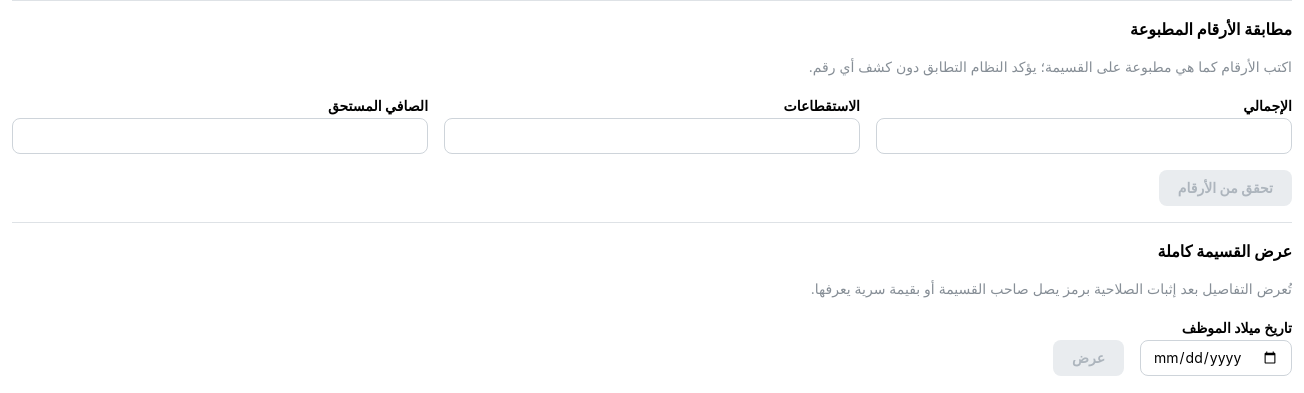
Test case: إجراءات التحقق العام من القسيمة › مطابقة الأرقام تعرض عدم التطابق دون كشف أرقام
Type "5000" into the field labelled "الإجمالي".
click(1084, 136); type("5000")  # box [876, 118, 1292, 154]
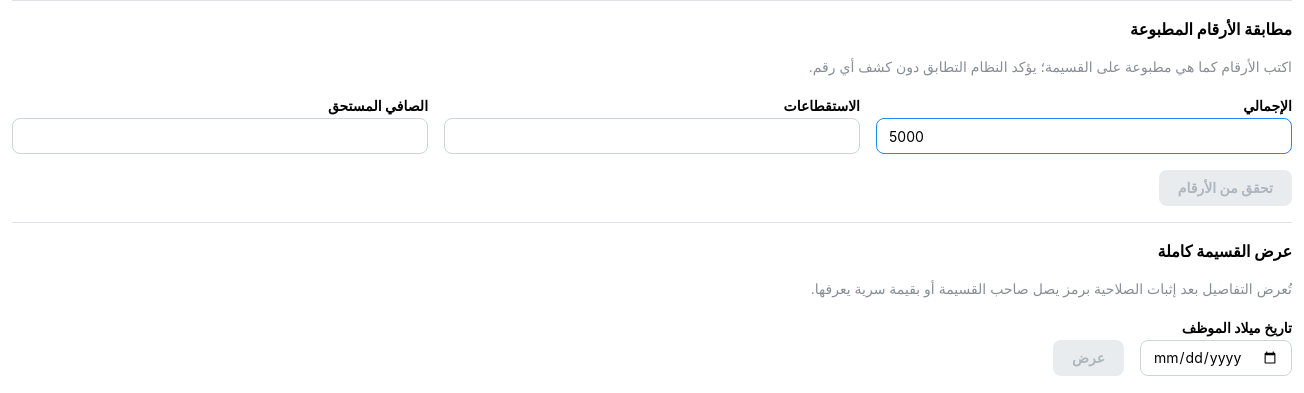
Type "0" into the field labelled "الاستقطاعات".
click(652, 136); type("0")  # box [444, 118, 860, 154]
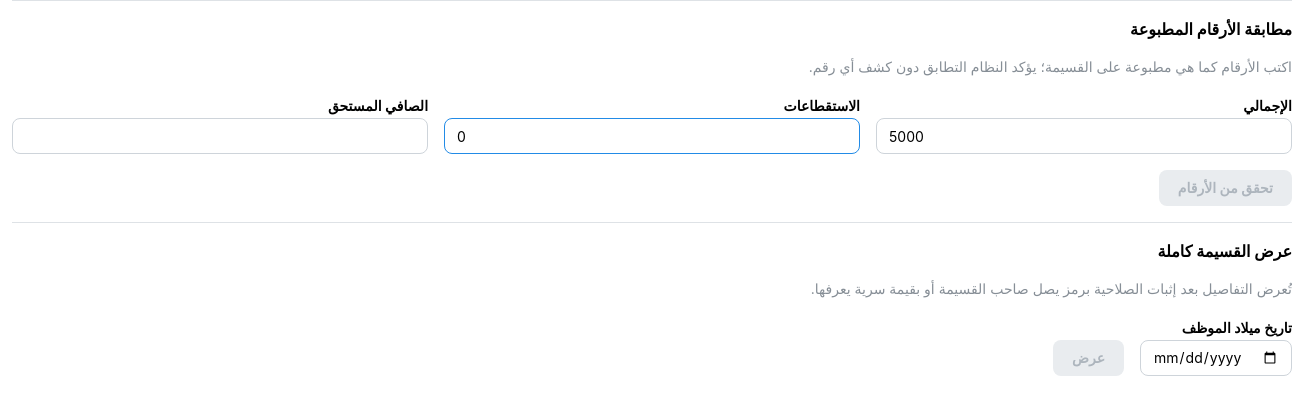
Type "5000" into the field labelled "الصافي المستحق".
click(220, 136); type("5000")  # box [12, 118, 428, 154]
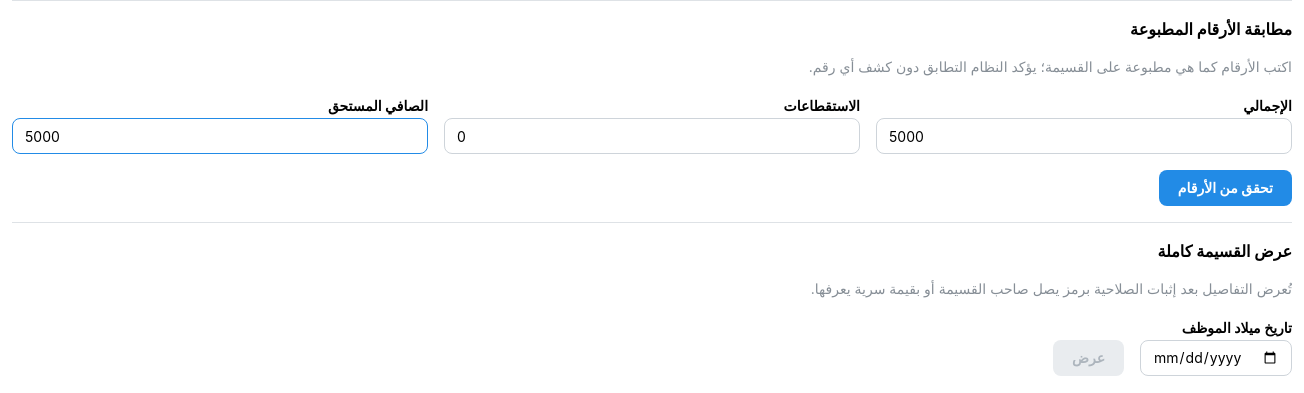
Click the button "تحقق من الأرقام".
click(1225, 188)  # box [1159, 170, 1292, 206]
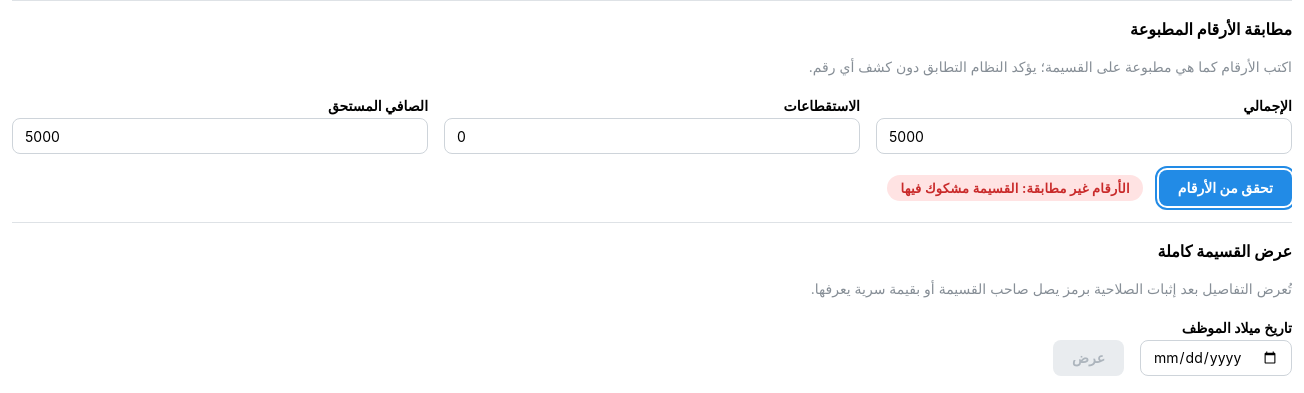
Result: the text "الأرقام غير مطابقة: القسيمة مشكوك فيها" is shown at [900, 176, 1130, 200]
